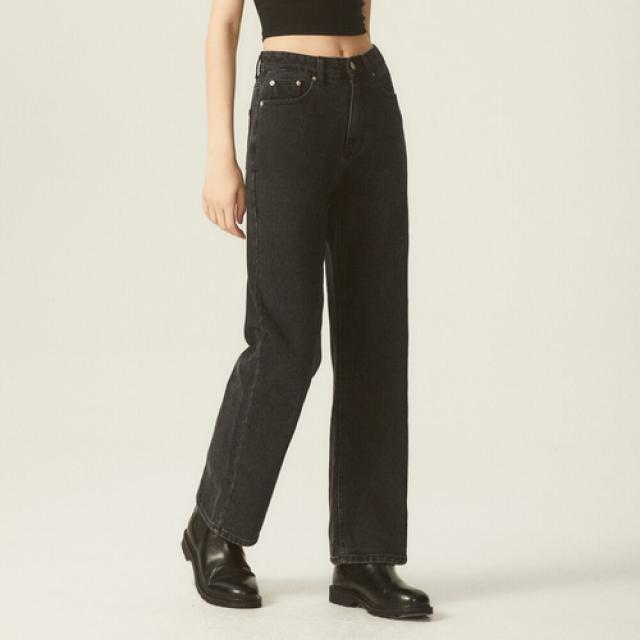dress: (195, 52, 408, 572)
